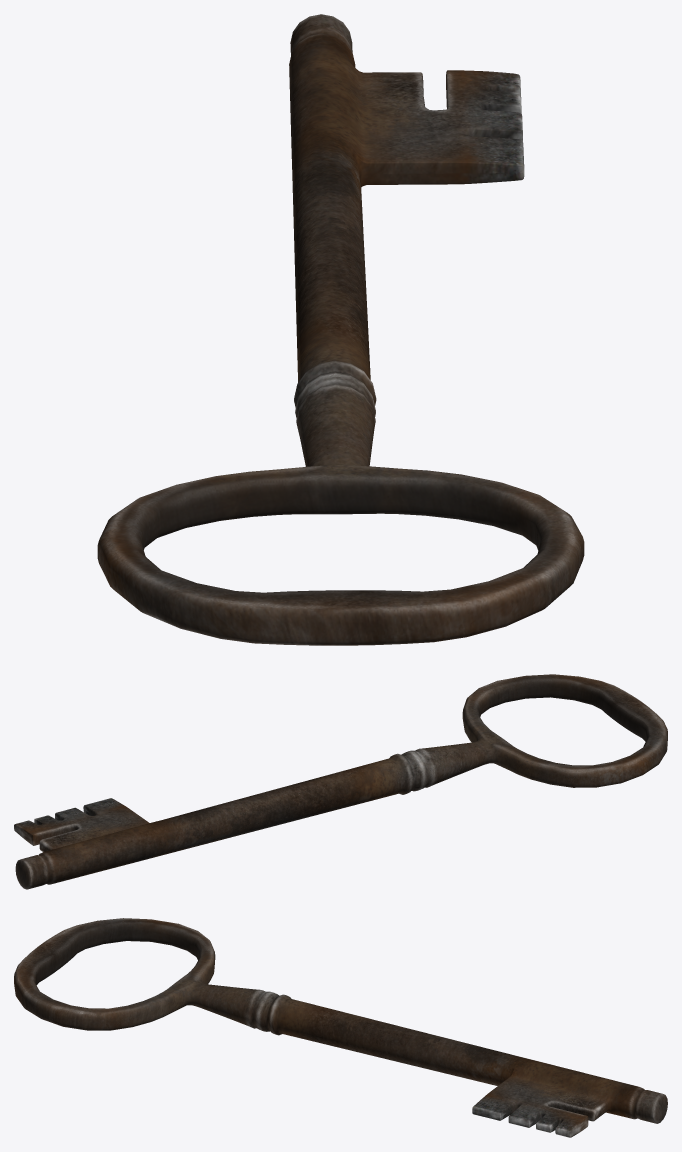
The model's file is Key.fbx.
The picture shows the model from 3 angles, top to bottom: view 1: azimuth 30°, elevation 25°; view 2: azimuth 150°, elevation 25°; view 3: azimuth 270°, elevation 25°; orthographic projection. The views are drawn at different scales.
Parts seen in each view (by area): view 1: Key.002; view 2: Key.002; view 3: Key.002.
Part boxes in pixels (bbox=[...]): Key.002: bbox=[97, 14, 584, 645]; Key.002: bbox=[14, 674, 667, 889]; Key.002: bbox=[14, 918, 667, 1137].
Size of the model in its own units: 576 by 50.56 by 786.
Materials: 1 (1 with a texture image).
